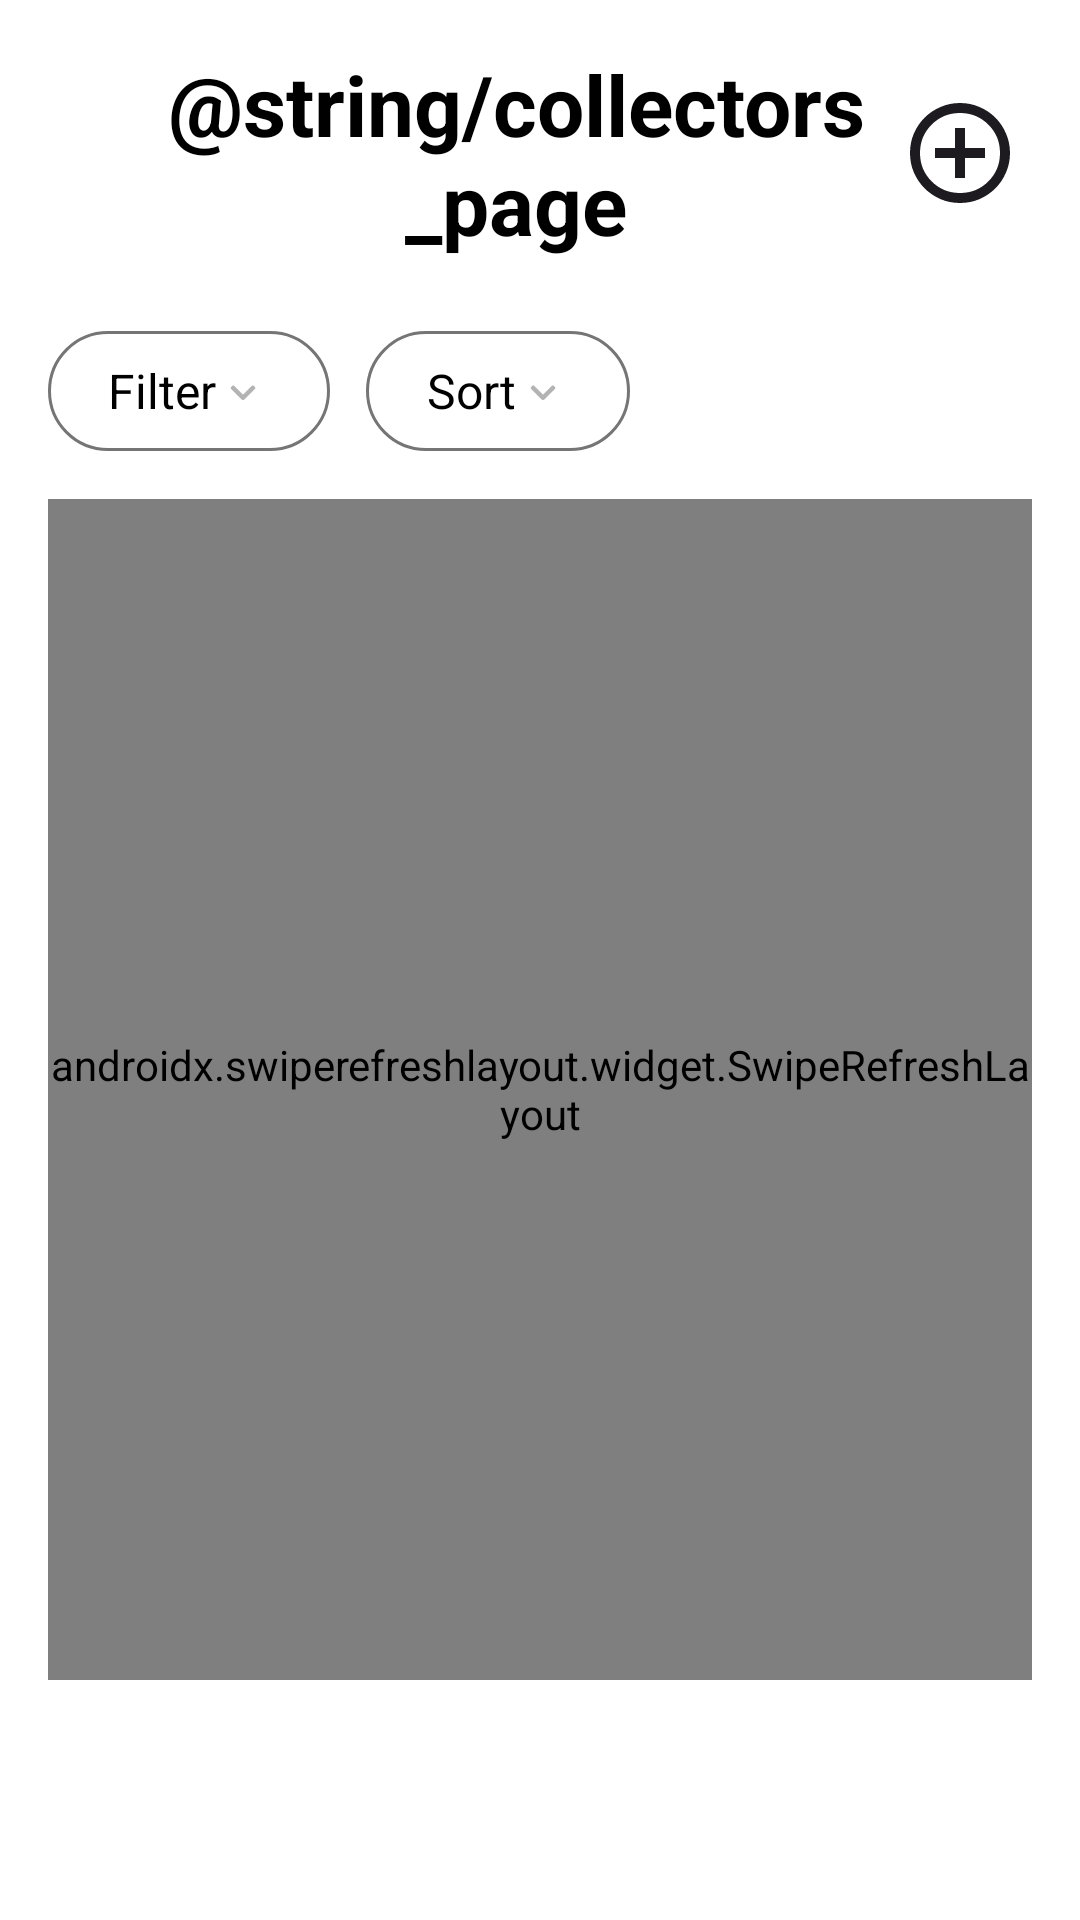

Icon click points for this 1080*1920 phone screenshot, format (x=x, y=y):
Add Collector: (x=960, y=153)
